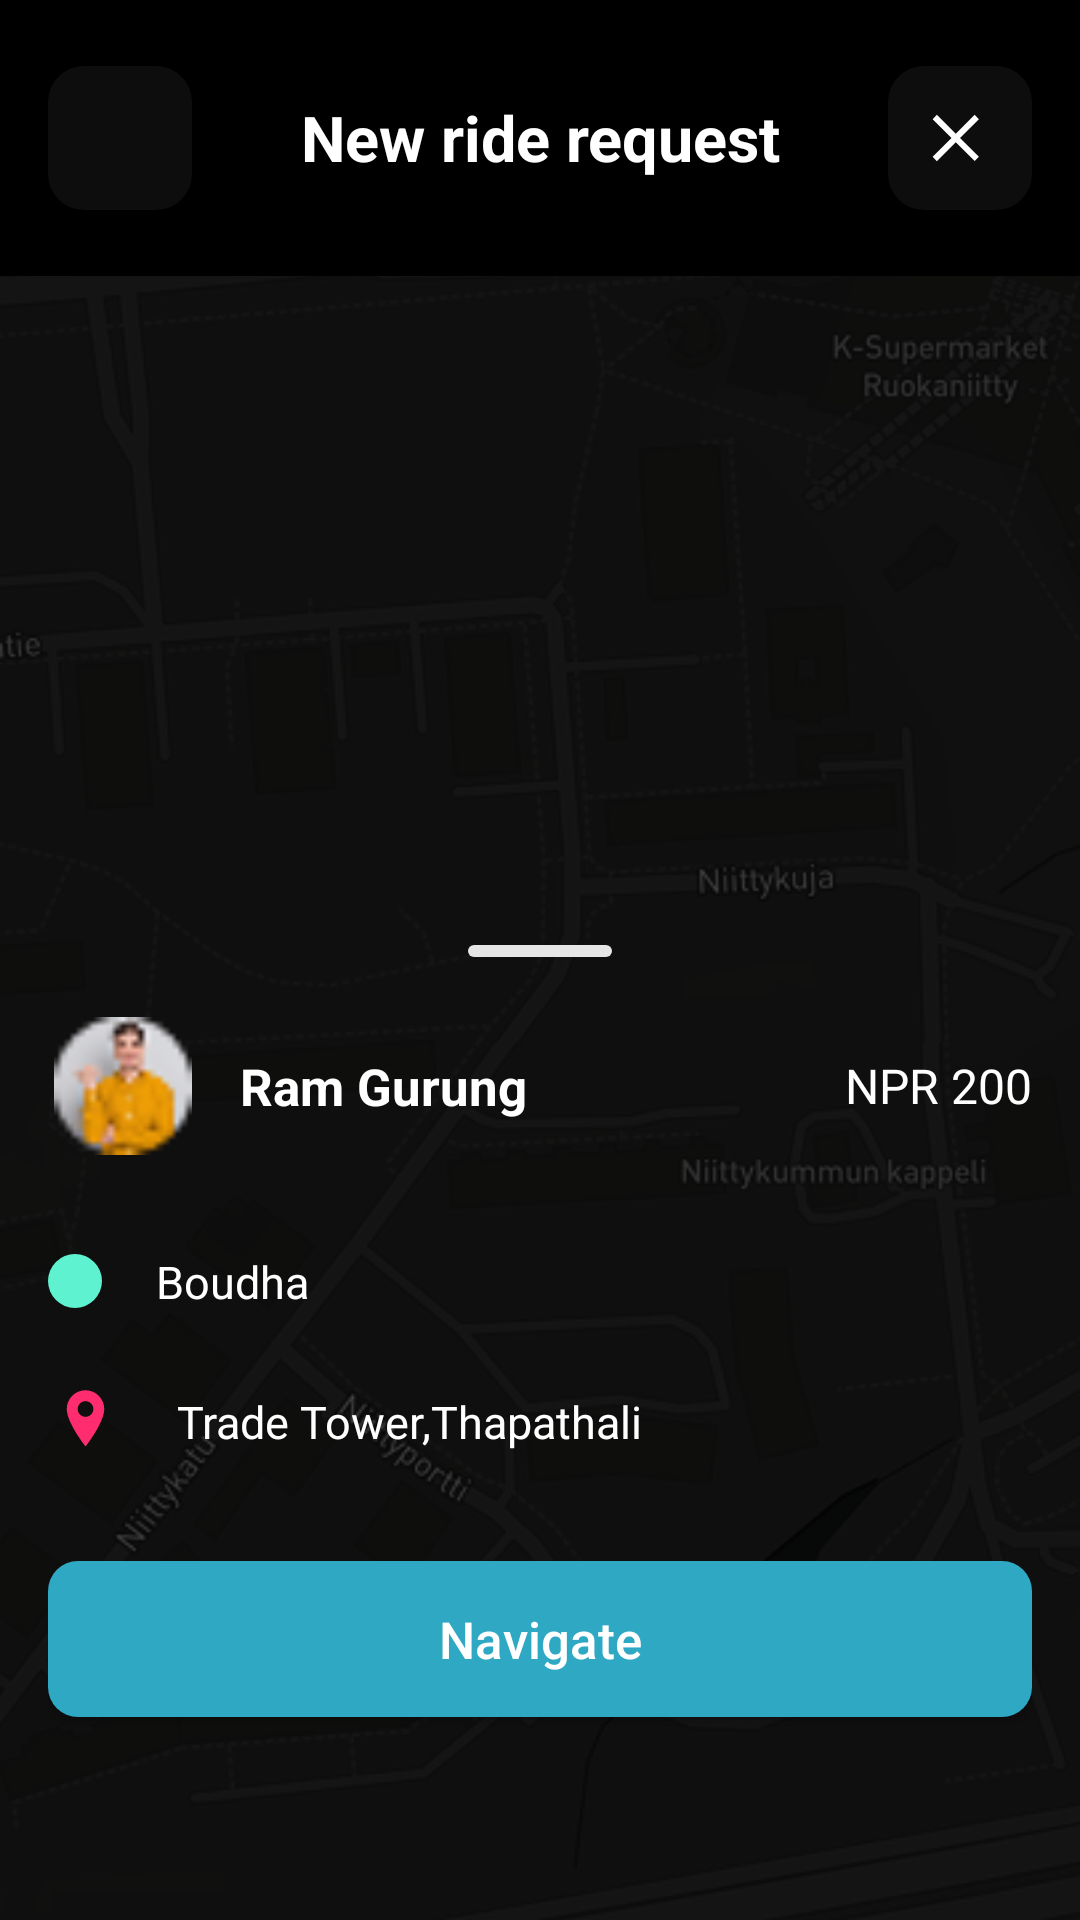

Locate icon controls on the screen. Image size 1080*1920, boxes as {"left": x1, "top": y1, "right": x2, "bottom": y2}.
Close: {"left": 888, "top": 66, "right": 1032, "bottom": 210}
location pin: {"left": 66, "top": 1390, "right": 105, "bottom": 1447}
Rider profile photo: {"left": 54, "top": 1017, "right": 192, "bottom": 1155}
